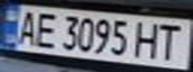0: (75, 15, 96, 53)
3: (57, 12, 81, 52)
5: (109, 17, 133, 57)
9: (90, 16, 115, 55)
A: (12, 8, 42, 46)
E: (30, 9, 60, 50)
H: (130, 19, 163, 60)
T: (154, 21, 187, 61)
